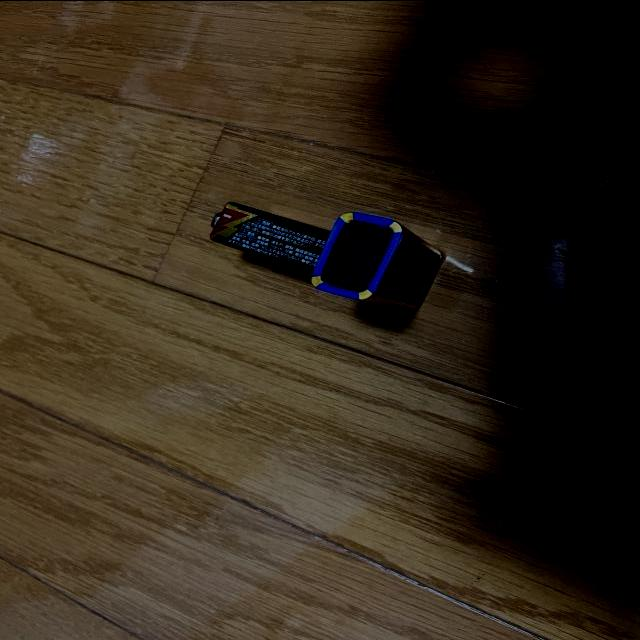9V: (309, 209, 444, 309), (208, 200, 333, 275)
